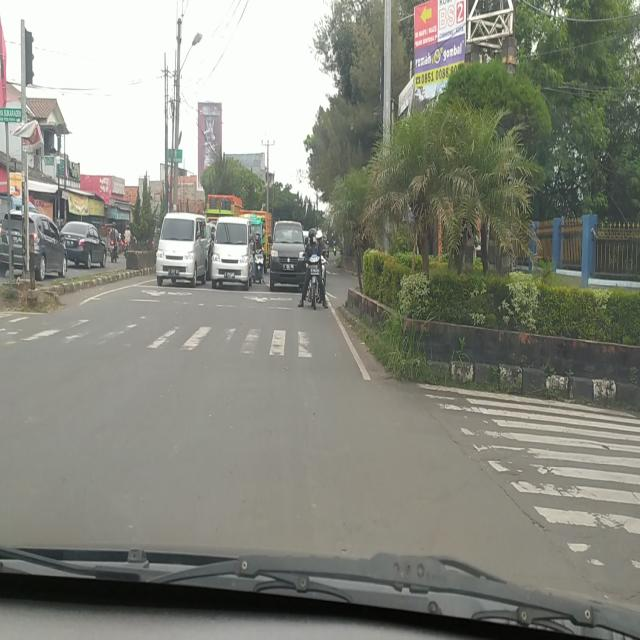Sewer Cover: (429, 413, 545, 530)
